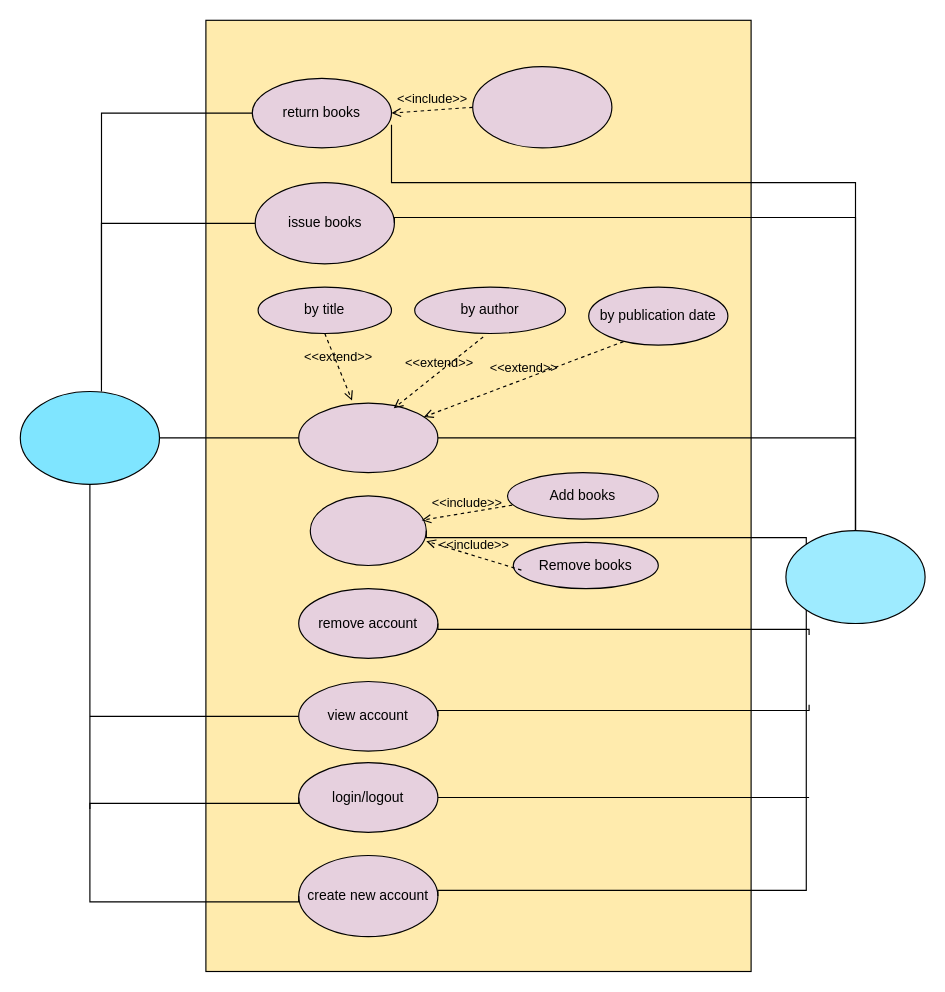
Some shapes in this 945 by 992 pixel diagram are drawn without their labels. Here are the shapes that lost their labels. From the top down, the box of each, then its label:
(472, 66, 612, 148): pay fine
(19, 390, 160, 484): user
(298, 402, 438, 473): search catalog
(309, 495, 426, 566): catalog
(785, 530, 925, 624): librarian
